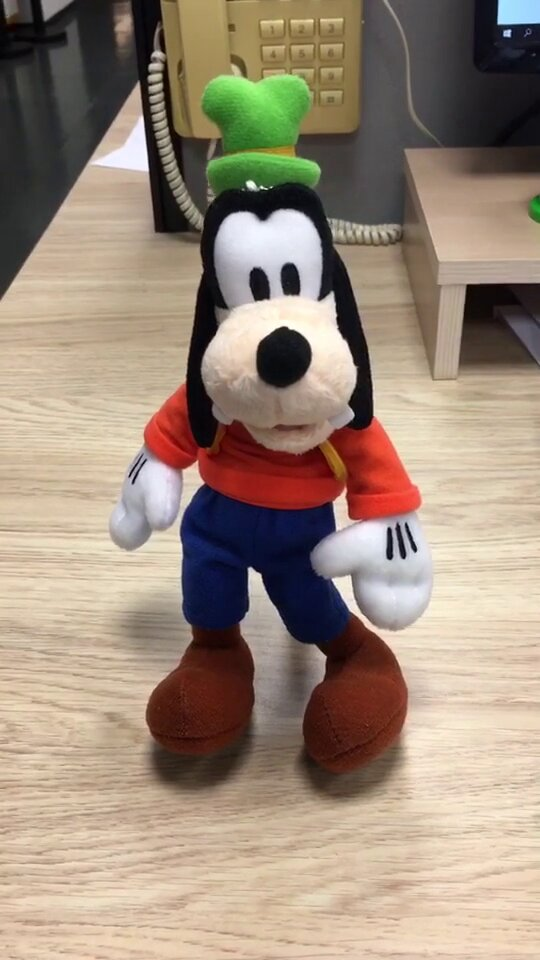goofy: (104, 70, 446, 795)
